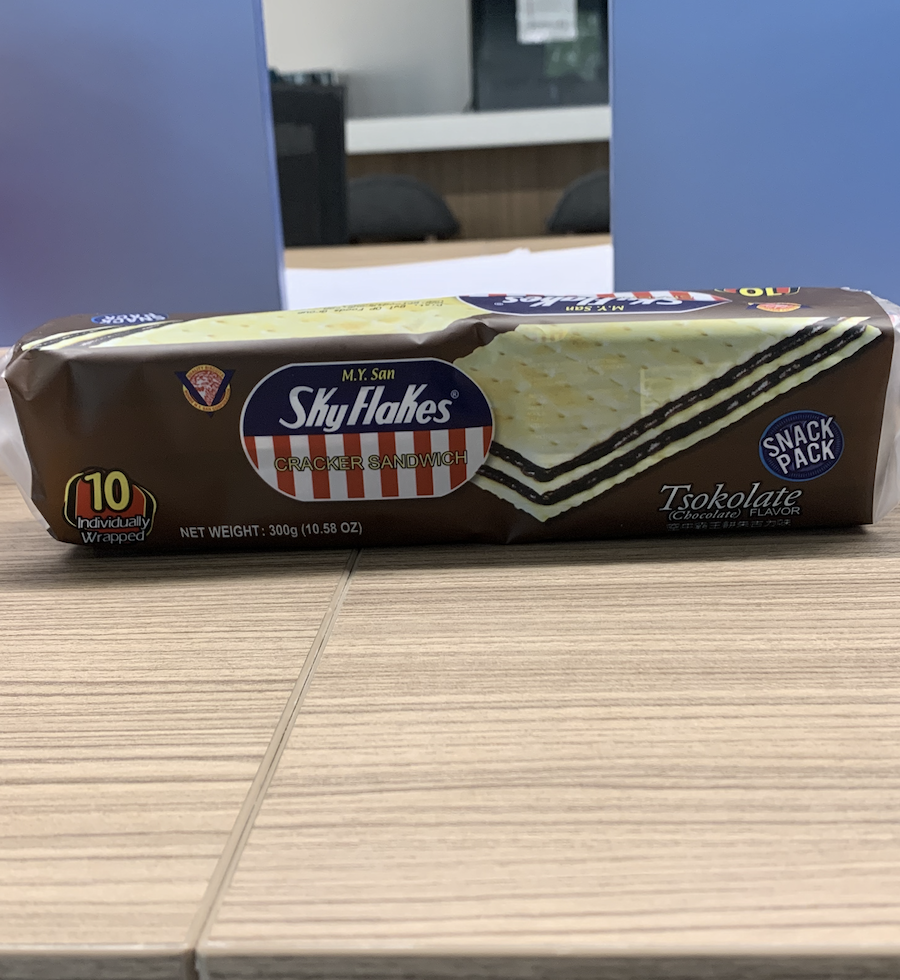crackers_150g: (53, 320, 862, 547)
